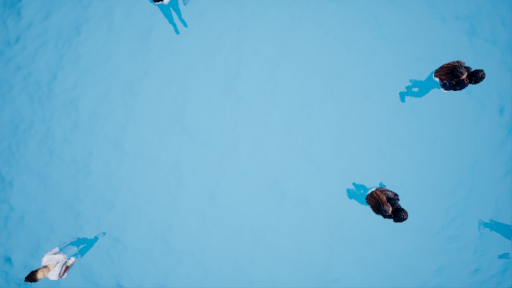person: (25, 226, 116, 282), (401, 62, 485, 109), (344, 178, 418, 228)
